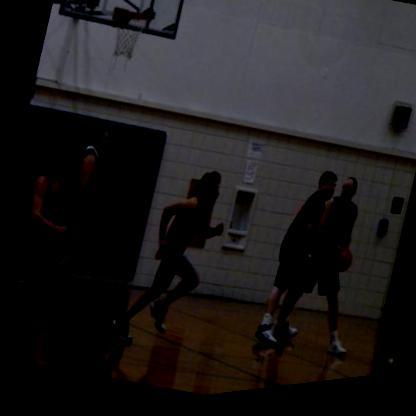basketball: (328, 252, 351, 284)
rim: (110, 5, 152, 33)
